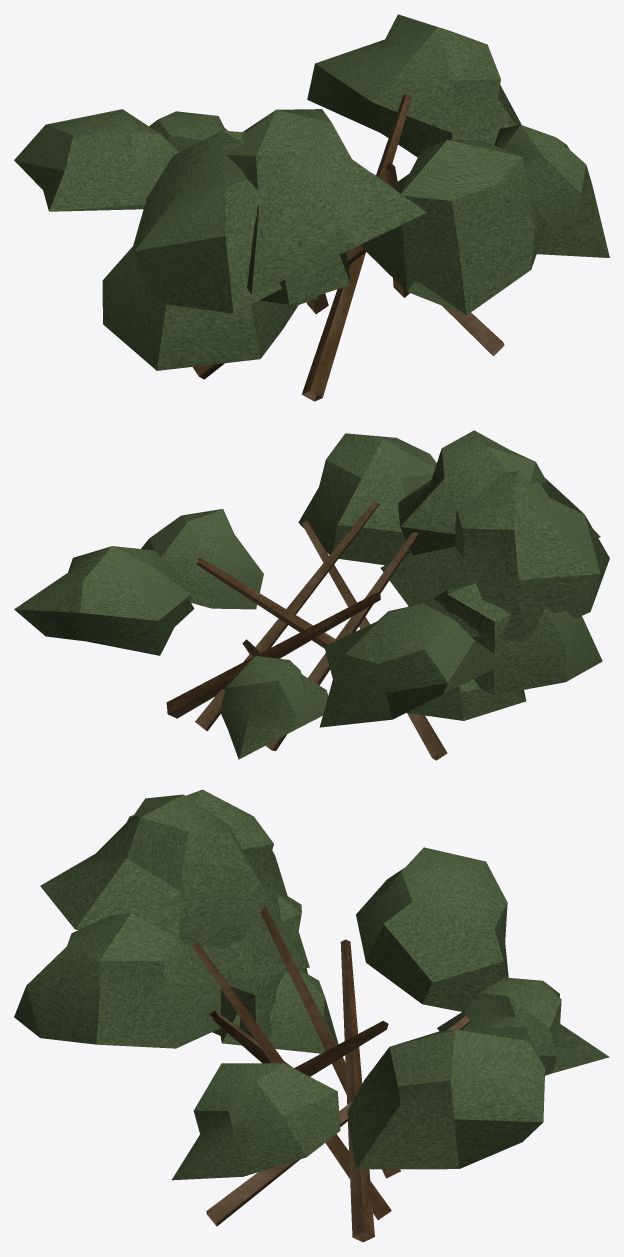
File: thicket_3.glb
3 renders of one model, top to bottom at view 1: azimuth 30°, elevation 25°; view 2: azimuth 150°, elevation 25°; view 3: azimuth 270°, elevation 25°, orthographic. The views are drawn at different scales.
Parts seen in each view (by area): view 1: thicket_3; view 2: thicket_3; view 3: thicket_3.
Part boxes in pixels (x1=…): thicket_3: x1=14, y1=14, x2=609, y2=401; thicket_3: x1=14, y1=430, x2=609, y2=760; thicket_3: x1=14, y1=789, x2=609, y2=1242.
Bounding box in the file's own units: 3.36 × 2.01 × 3.42.
2 materials, 2 textured.
